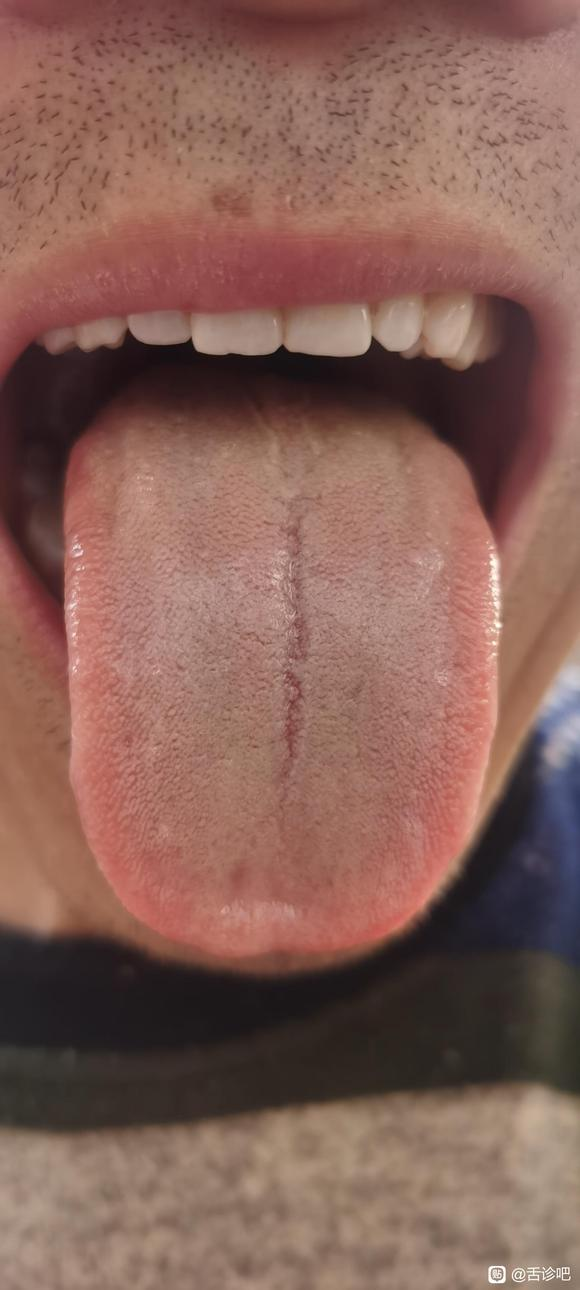baitaishe: (60, 355, 499, 958)
liewenshe: (272, 516, 315, 766)
